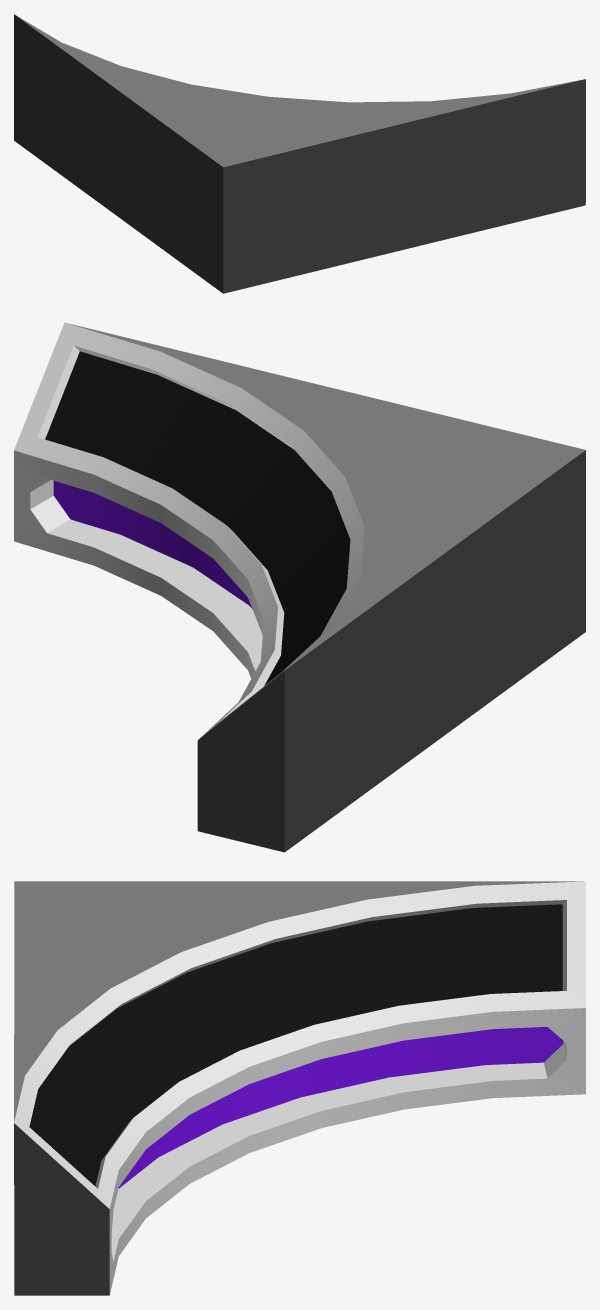
Rendered from PlatformBorder00b_5InteriorCorner_b.fbx.
The picture shows the model from 3 angles, top to bottom: view 1: azimuth 30°, elevation 25°; view 2: azimuth 150°, elevation 25°; view 3: azimuth 270°, elevation 25°; orthographic projection. The views are drawn at different scales.
Parts seen in each view (by area): view 1: PlatformBorder00b_5InteriorCornerb; view 2: PlatformBorder00b_5InteriorCornerb; view 3: PlatformBorder00b_5InteriorCornerb.
Part boxes in pixels (x1,y1,x2,y2): PlatformBorder00b_5InteriorCornerb: (14,14,585,293); PlatformBorder00b_5InteriorCornerb: (14,322,585,852); PlatformBorder00b_5InteriorCornerb: (14,881,585,1295).
Bounding box in the file's own units: 300 × 100 × 300.
